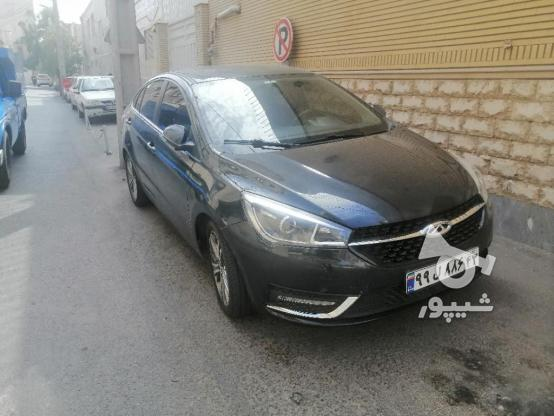car: (403, 245, 481, 292)
